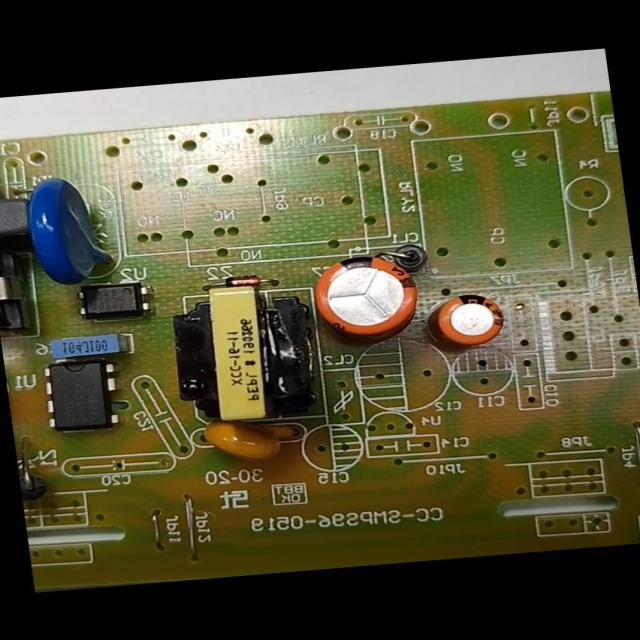Cap1: (309, 248, 426, 343)
Cap2: (426, 288, 516, 350)
MOSFET: (37, 356, 122, 432)
Mov: (21, 170, 119, 287)
Resistor: (0, 151, 11, 202)
Transformer: (160, 276, 318, 428), (0, 239, 26, 329)
